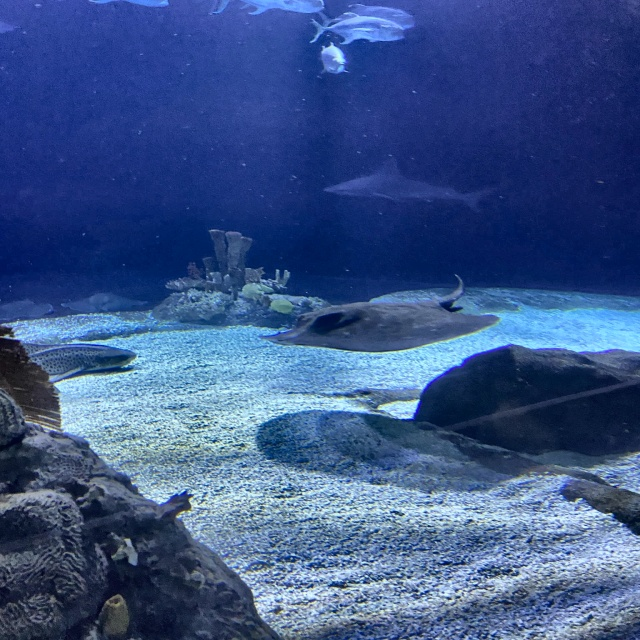fish: (0, 341, 148, 375), (317, 18, 404, 44), (349, 4, 419, 31), (208, 0, 328, 14), (312, 47, 365, 74)
shark: (313, 158, 487, 212)
stingray: (263, 298, 490, 353)
